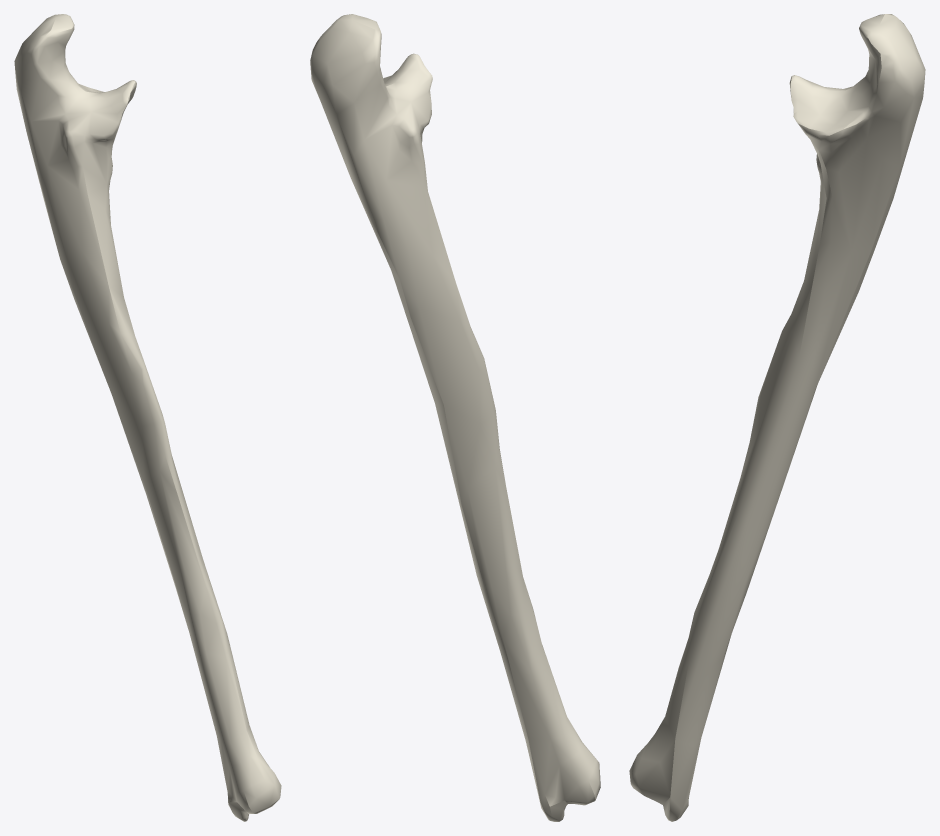
File: fma23467_fj3391.glb
The picture shows the model from 3 angles, left to right: view 1: azimuth 90°, elevation 25°; view 2: azimuth 150°, elevation 25°; view 3: azimuth 270°, elevation 25°; orthographic projection. The views are drawn at different scales.
Visible parts, largest first — view 1: FMA23467_FJ3391; view 2: FMA23467_FJ3391; view 3: FMA23467_FJ3391.
Boxes of the visible parts, x1=… form: FMA23467_FJ3391: x1=14, y1=14, x2=281, y2=821; FMA23467_FJ3391: x1=310, y1=14, x2=600, y2=821; FMA23467_FJ3391: x1=629, y1=14, x2=925, y2=821.
Size of the model in its own units: 0.0503 by 0.2473 by 0.0787.
